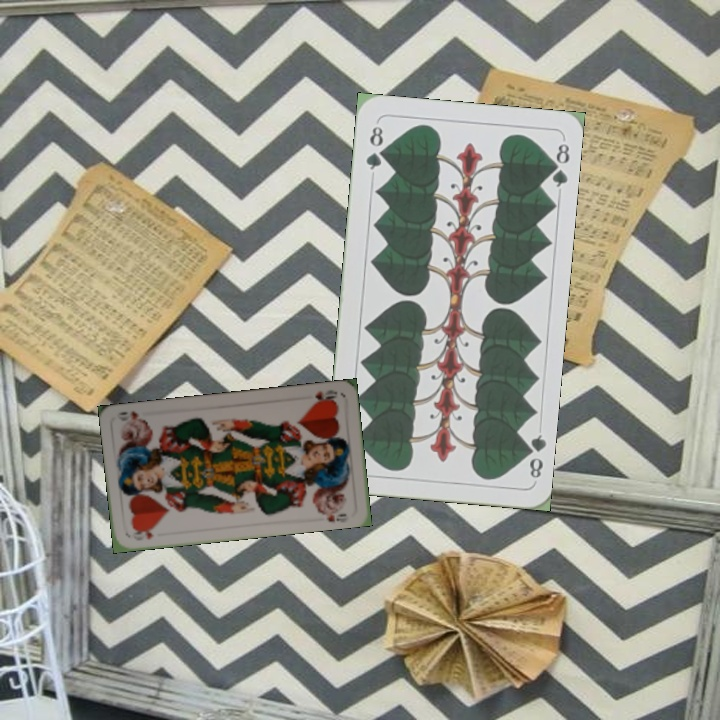G8: (519, 430, 548, 481), (361, 122, 387, 173)
HO: (308, 386, 340, 406), (128, 524, 158, 542)
